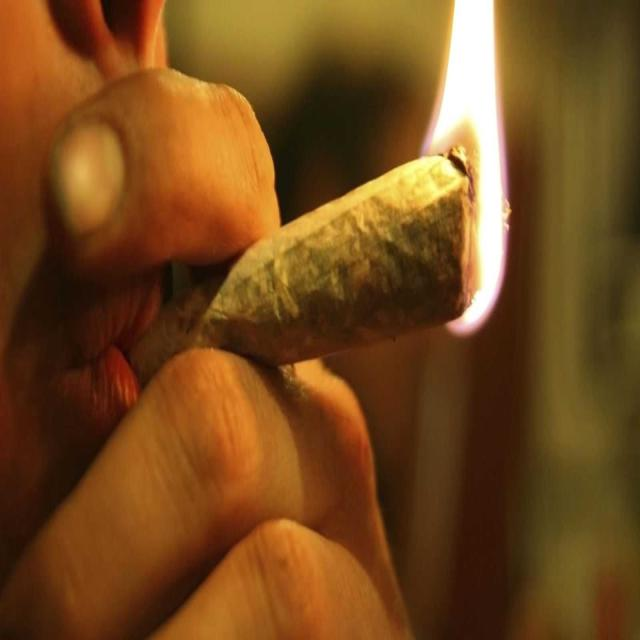Smooking: (140, 119, 496, 379)
